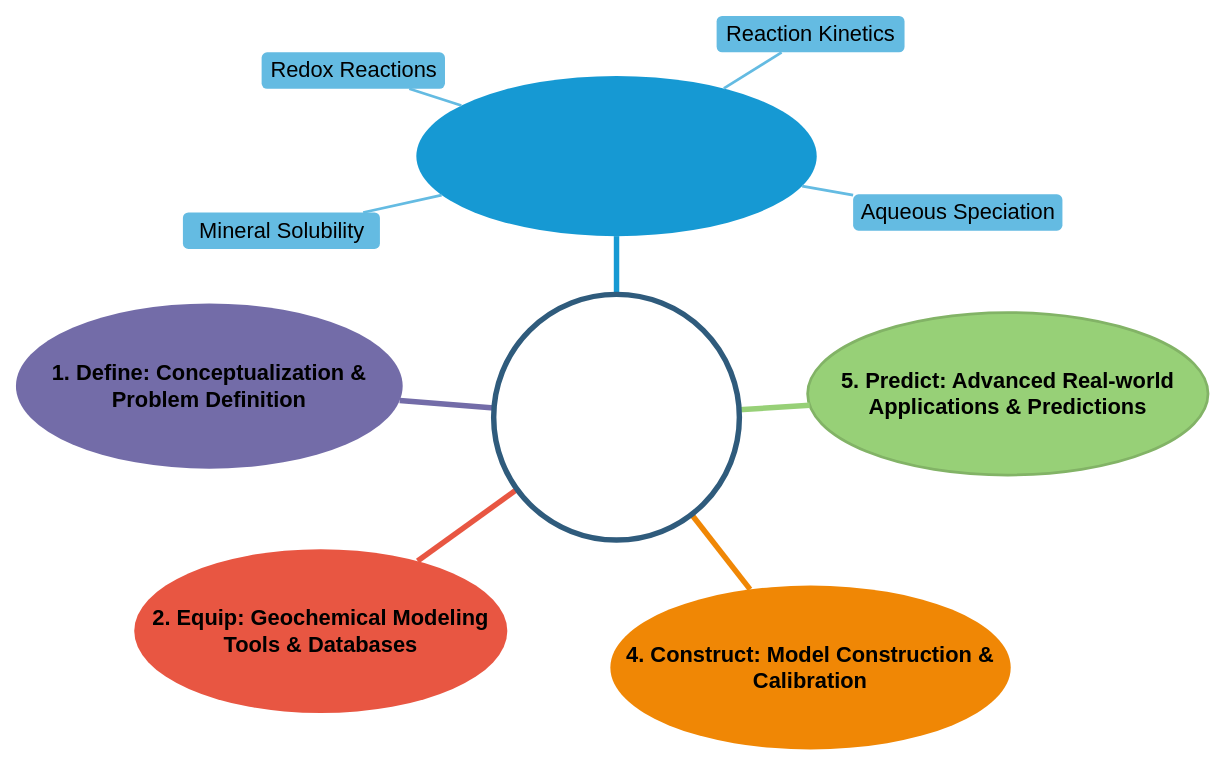
This 1225x764 diagram has some shape labels left out. Each missing label, with the centre of its shape:
"3. Understand: Thermodynamic Framework" belongs at [616,156].
"Geochemical modeling" belongs at [616,416].
